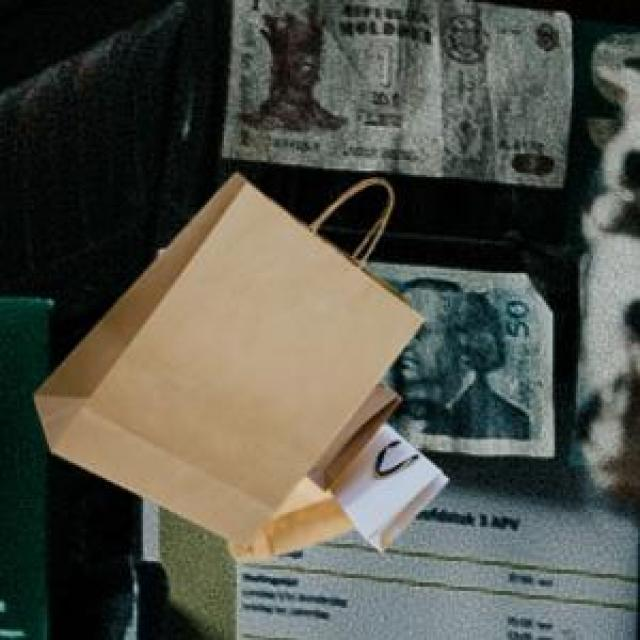Paper -Biodegradable-: (33, 173, 427, 542), (313, 183, 389, 262)
